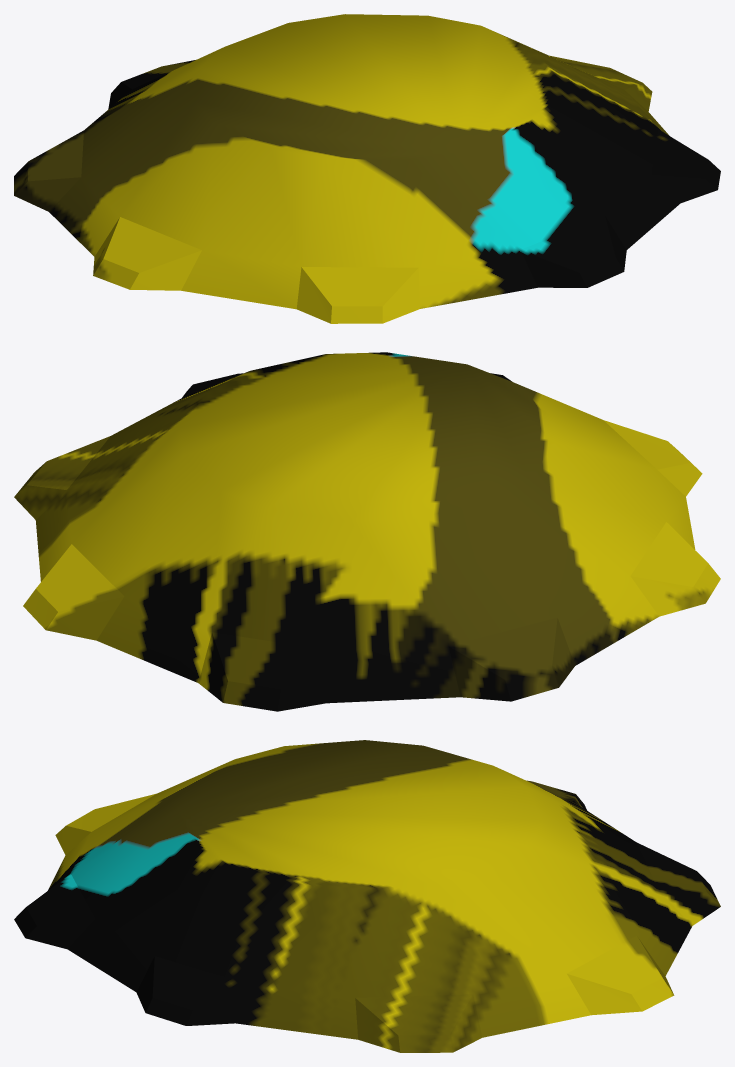
The model's file is mine 2.FBX.
The picture shows the model from 3 angles, top to bottom: view 1: azimuth 30°, elevation 25°; view 2: azimuth 150°, elevation 25°; view 3: azimuth 270°, elevation 25°; orthographic projection. The views are drawn at different scales.
Visible parts, largest first — view 1: Sphere001; view 2: Sphere001; view 3: Sphere001.
Part boxes in pixels (x1=…): Sphere001: x1=14, y1=14, x2=720, y2=323; Sphere001: x1=14, y1=352, x2=720, y2=711; Sphere001: x1=14, y1=740, x2=720, y2=1052.
Bounding box in the file's own units: 80.98 × 15.22 × 82.6.
